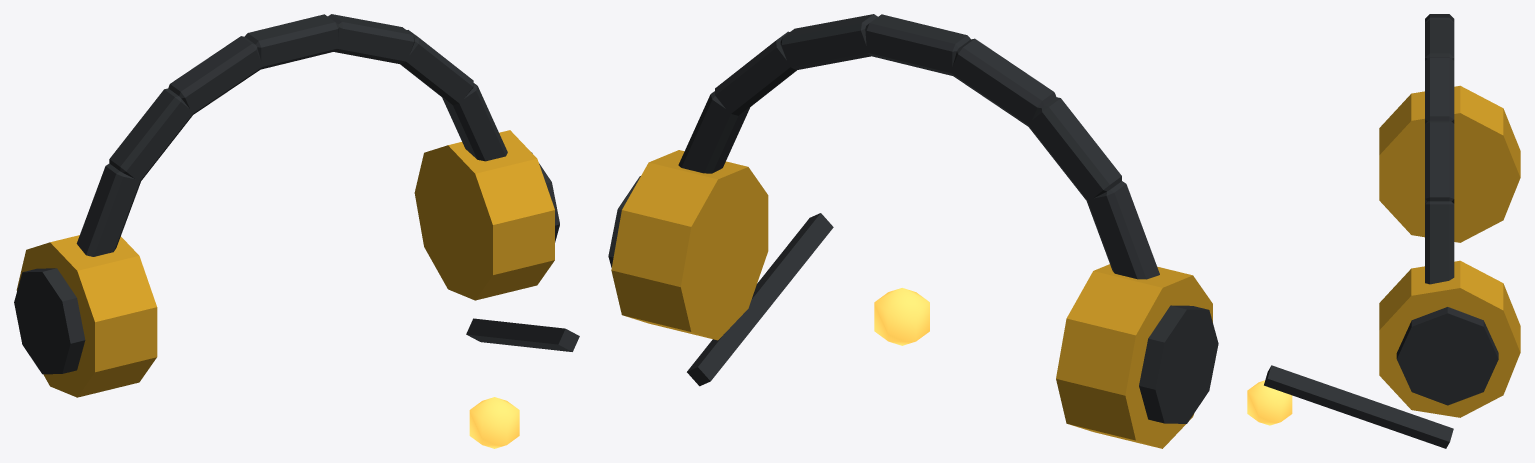
The model's file is npc_headset_amber.glb.
3 views of the same model, side by side, from view 1: azimuth 30°, elevation 25°; view 2: azimuth 150°, elevation 25°; view 3: azimuth 270°, elevation 25° (orthographic). The views are drawn at different scales.
Parts seen in each view (by area): view 1: part.npc_headset_amber; view 2: part.npc_headset_amber; view 3: part.npc_headset_amber.
Part boxes in pixels (x1,y1,x2,y2): part.npc_headset_amber: [14, 14, 579, 448]; part.npc_headset_amber: [608, 14, 1218, 448]; part.npc_headset_amber: [1247, 14, 1520, 448].
Bounding box in the file's own units: 0.315 × 0.233 × 0.1689.
